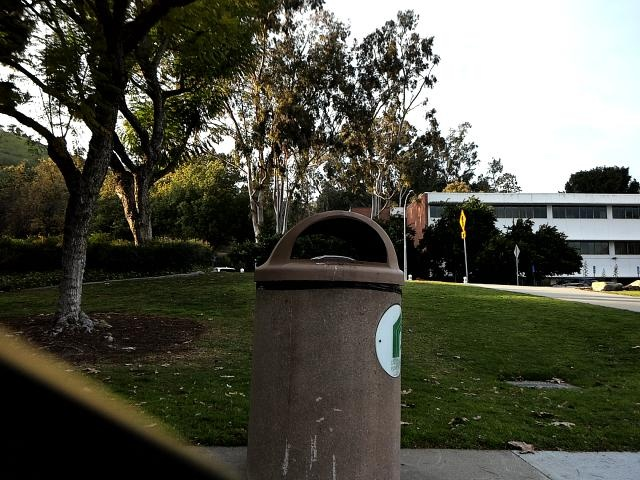trashcan: (233, 211, 429, 480)
